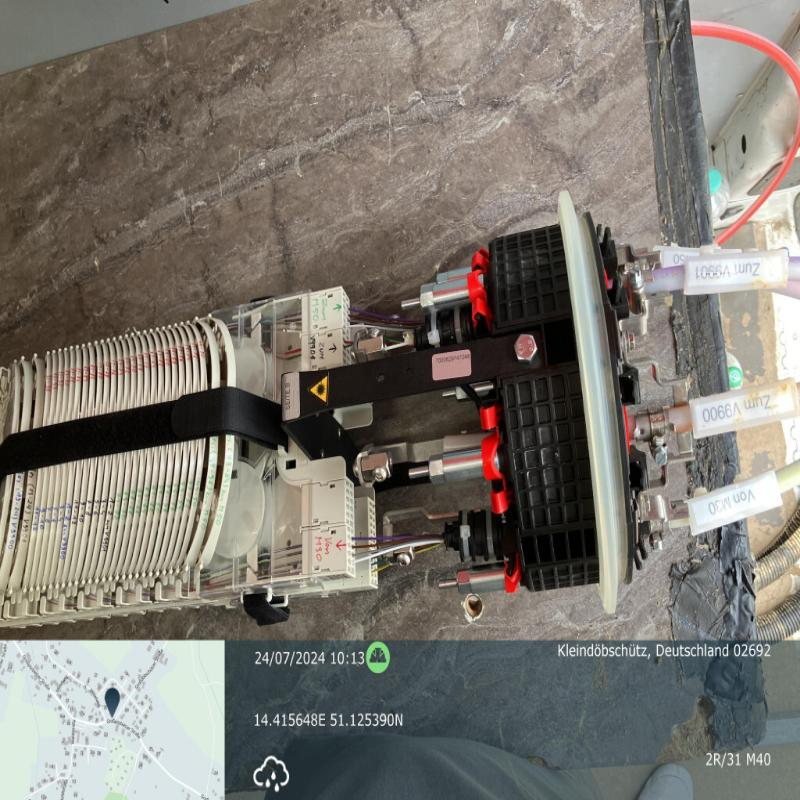NT-Muffen: (0, 186, 737, 628)
